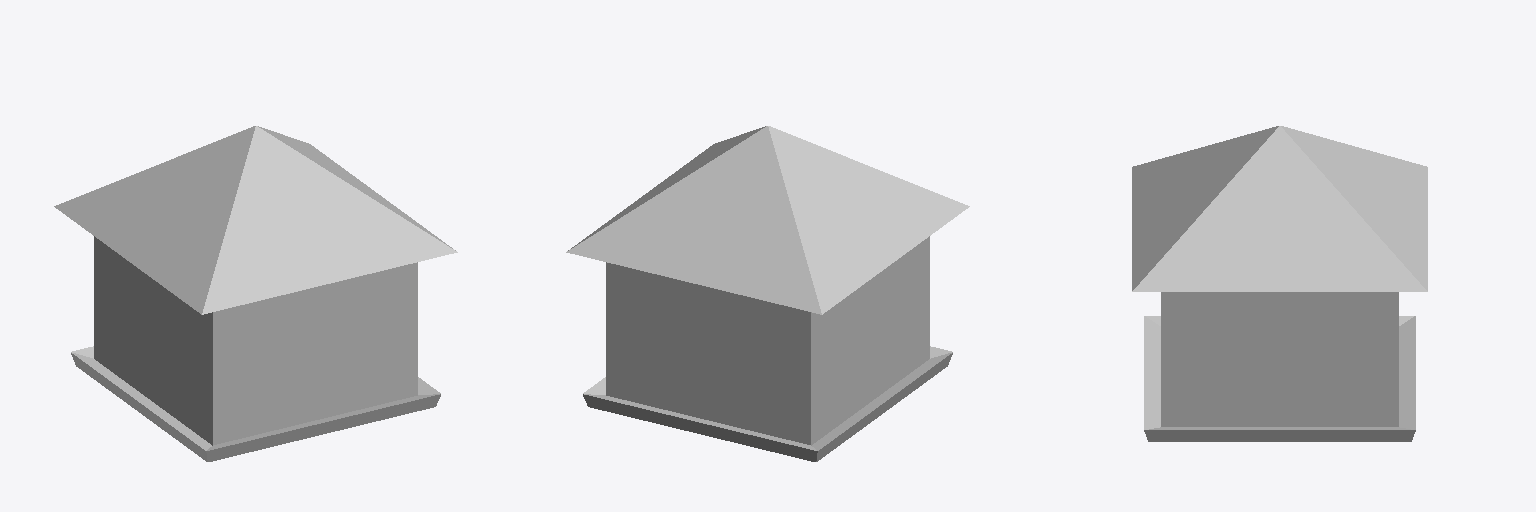
The model's file is abode.obj.
The picture shows the model from 3 angles: view 1: azimuth 30°, elevation 25°; view 2: azimuth 150°, elevation 25°; view 3: azimuth 270°, elevation 25°; orthographic projection.
Parts seen in each view (by area): view 1: Cube; view 2: Cube; view 3: Cube.
Boxes of the visible parts, box(x1,y1,x2,y2) form: Cube: box(54, 126, 457, 461); Cube: box(566, 126, 969, 461); Cube: box(1132, 126, 1427, 441).
Size of the model in its own units: 1.89 by 1.84 by 1.89.